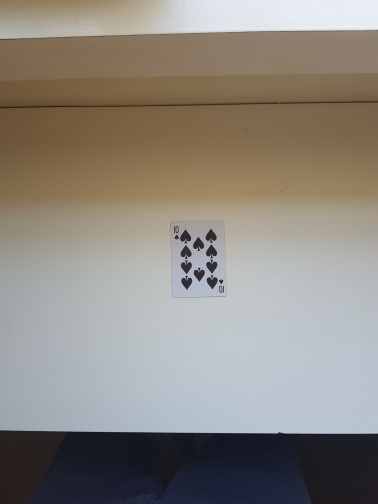ten: (170, 221, 228, 298)
